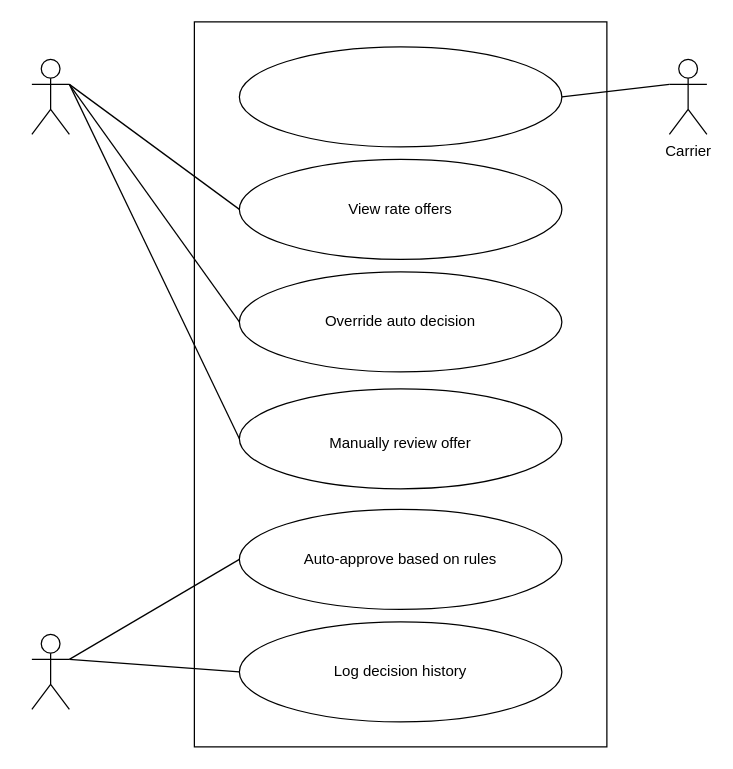
The diagram is 733 pixels wide and 769 high, and some of its shapes have lost their labels. Here are the shapes that lost their labels. From the top down, the centre of each, then its label:
the point at 50,96: Logistics Manager
the point at 400,96: Submit rate offer
the point at 50,671: System
